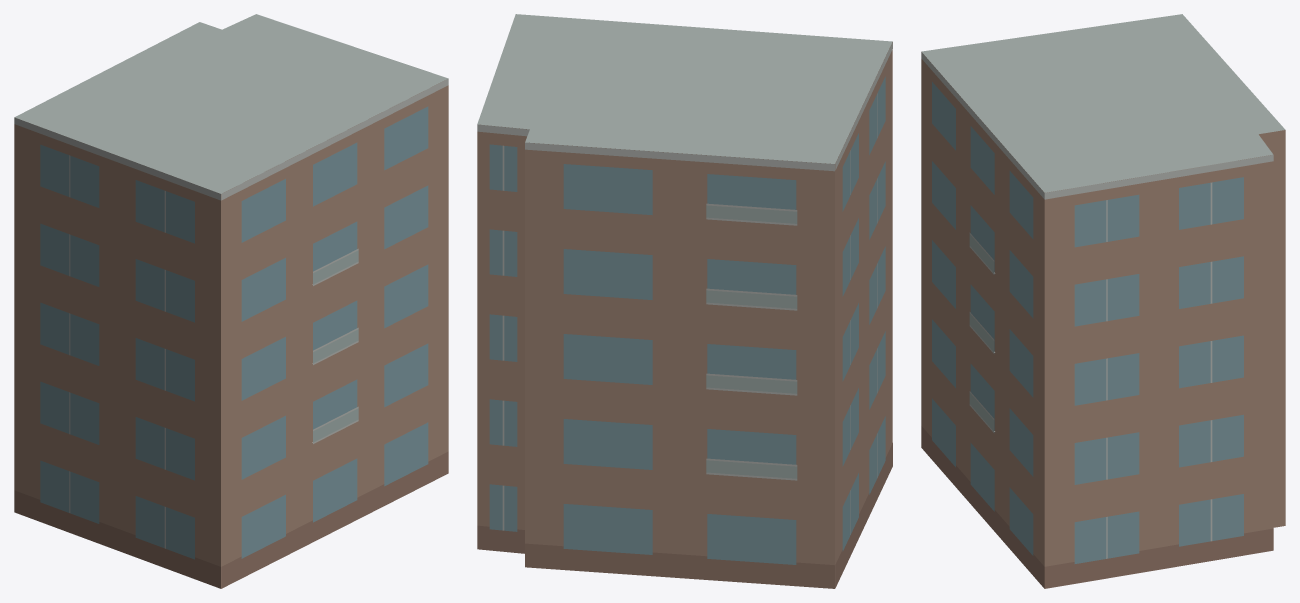
File: survey-upis-32835977.glb
3 renders of one model, left to right at view 1: azimuth 30°, elevation 25°; view 2: azimuth 150°, elevation 25°; view 3: azimuth 270°, elevation 25°, orthographic. The views are drawn at different scales.
Parts seen in each view (by area): view 1: survey-upis-32835977.tmp; view 2: survey-upis-32835977.tmp; view 3: survey-upis-32835977.tmp.
Part boxes in pixels (x1,y1,x2,y2): survey-upis-32835977.tmp: (14, 14, 448, 588); survey-upis-32835977.tmp: (477, 14, 892, 588); survey-upis-32835977.tmp: (921, 14, 1285, 588).
Size of the model in its own units: 13.96 by 14.4 by 12.02.
